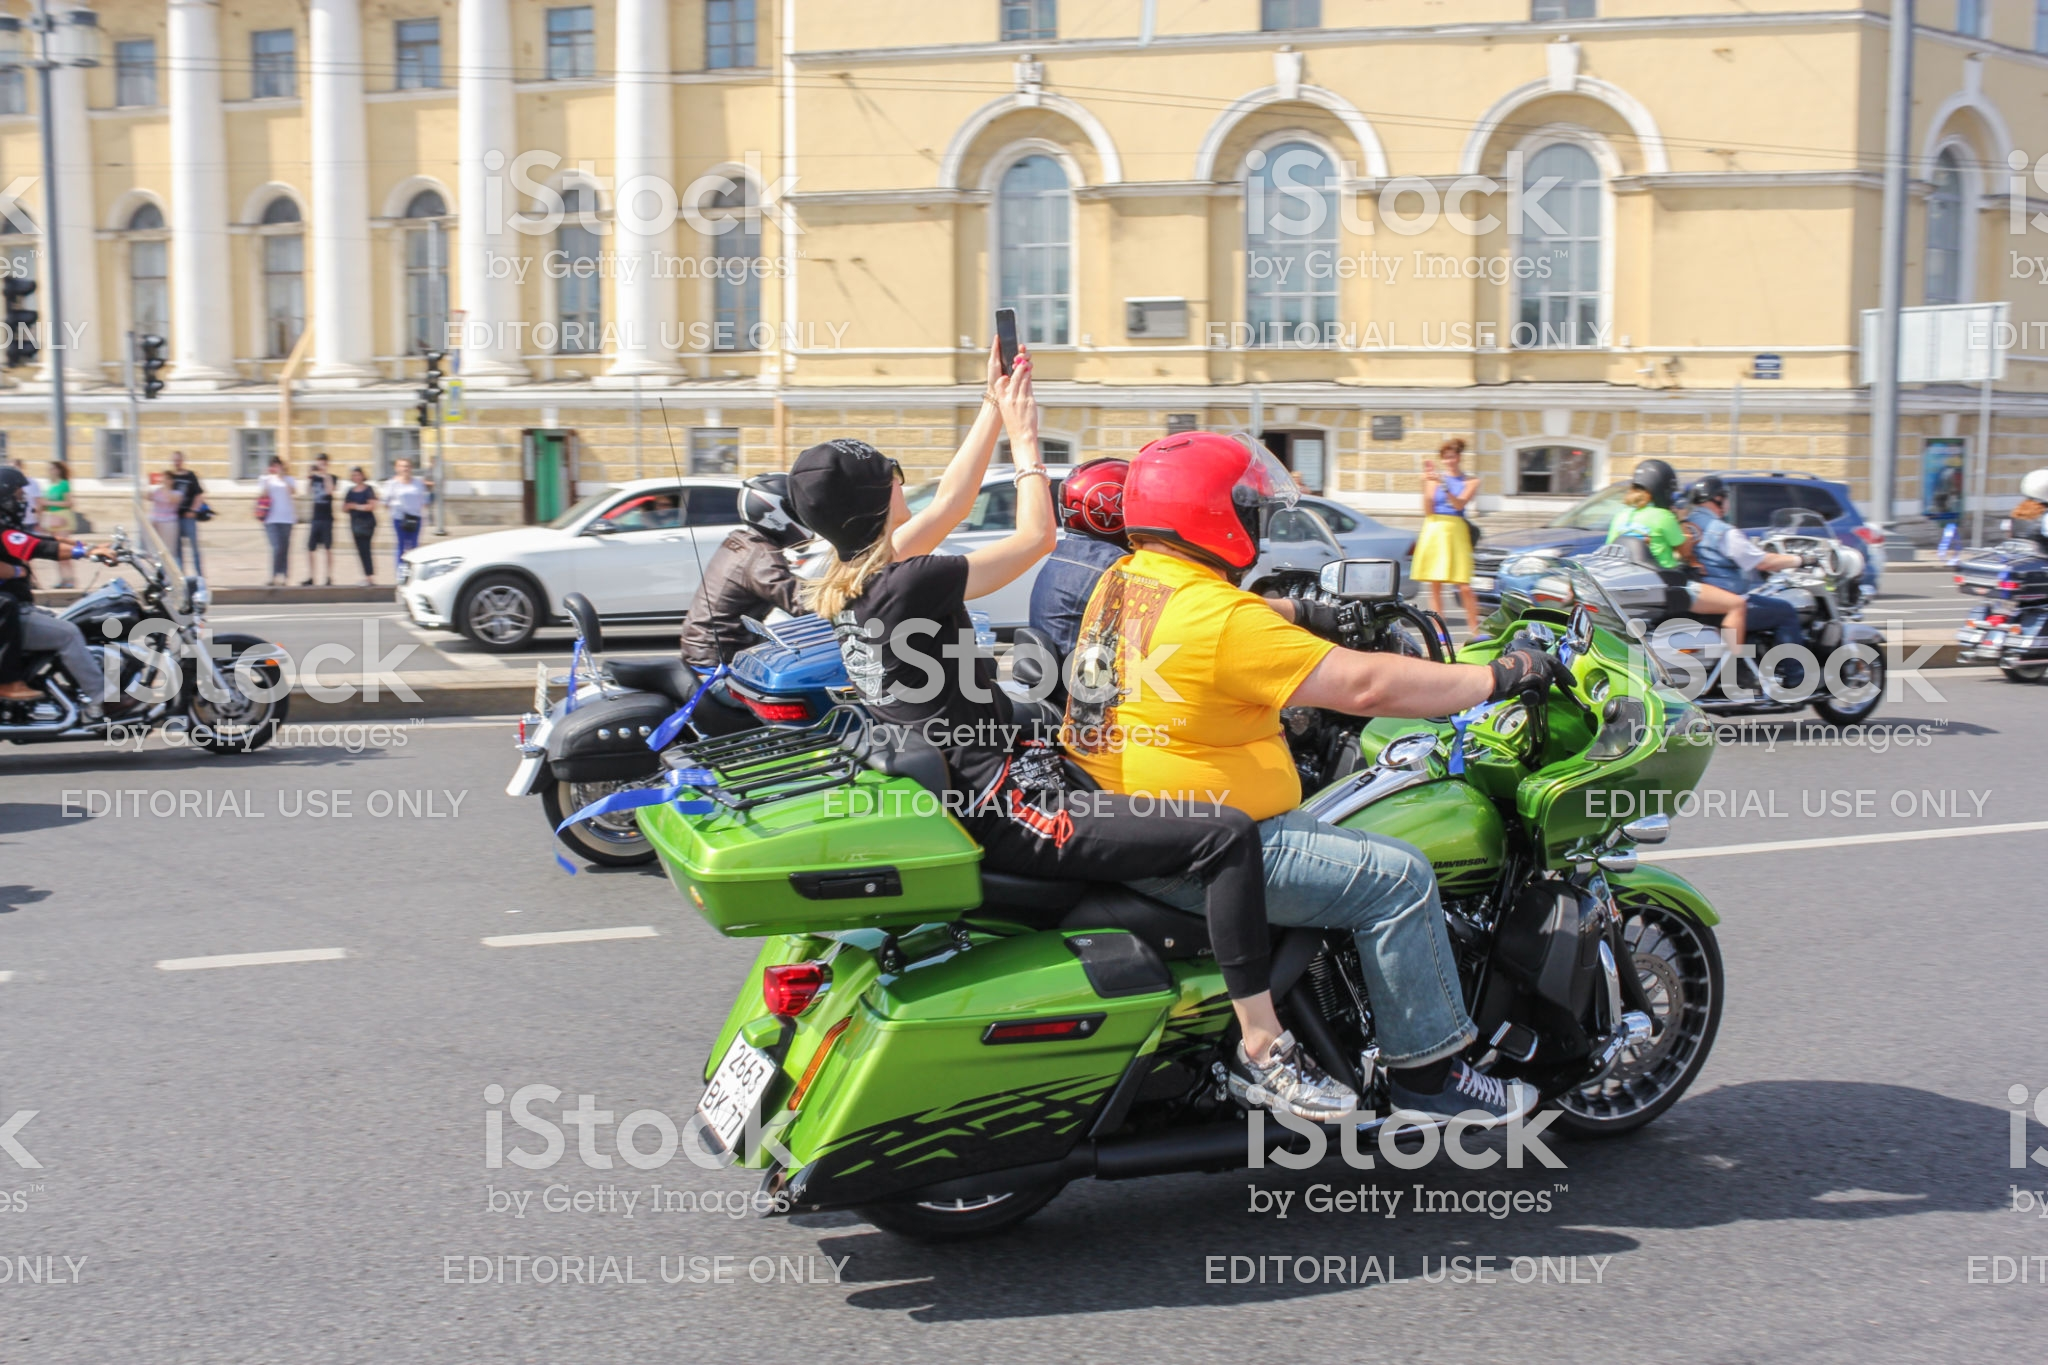helmet: (1121, 436, 1303, 588)
